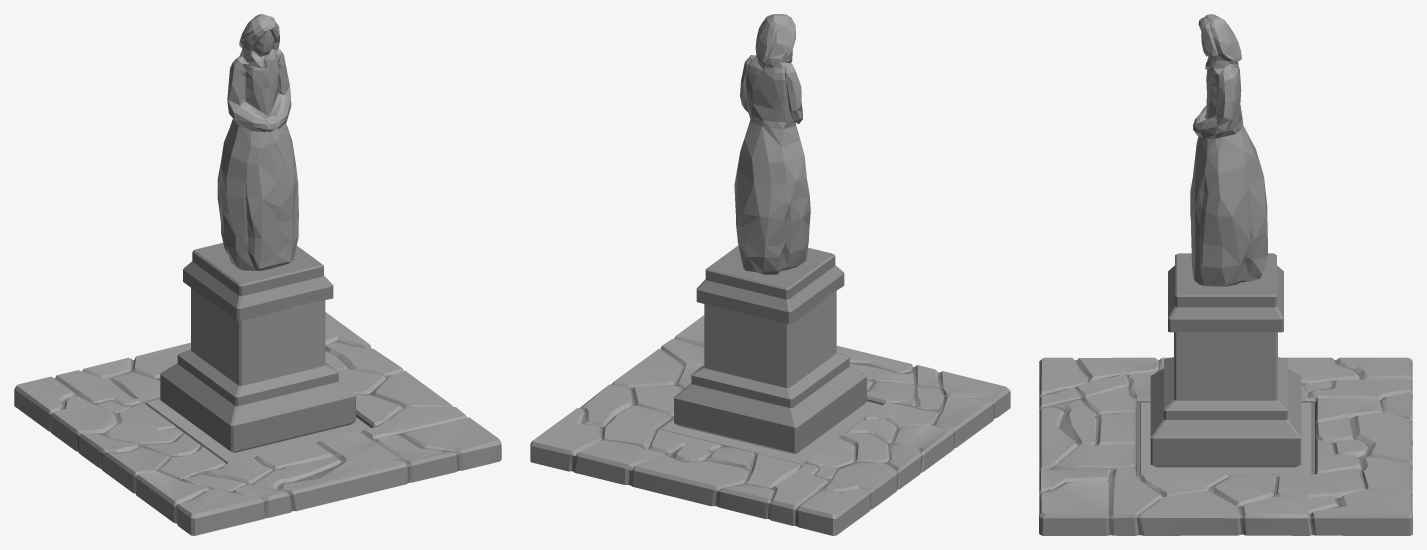
The model's file is SM_Props_ParkDecor_02.fbx.
The picture shows the model from 3 angles, left to right: view 1: azimuth 30°, elevation 25°; view 2: azimuth 150°, elevation 25°; view 3: azimuth 270°, elevation 25°; orthographic projection. The views are drawn at different scales.
Parts seen in each view (by area): view 1: SM_Props_ParkDecor_02; view 2: SM_Props_ParkDecor_02; view 3: SM_Props_ParkDecor_02.
Part boxes in pixels (bbox=[...]): SM_Props_ParkDecor_02: bbox=[14, 14, 501, 535]; SM_Props_ParkDecor_02: bbox=[530, 14, 1010, 535]; SM_Props_ParkDecor_02: bbox=[1039, 14, 1412, 535].
Bounding box in the file's own units: 2 × 2.59 × 2.
